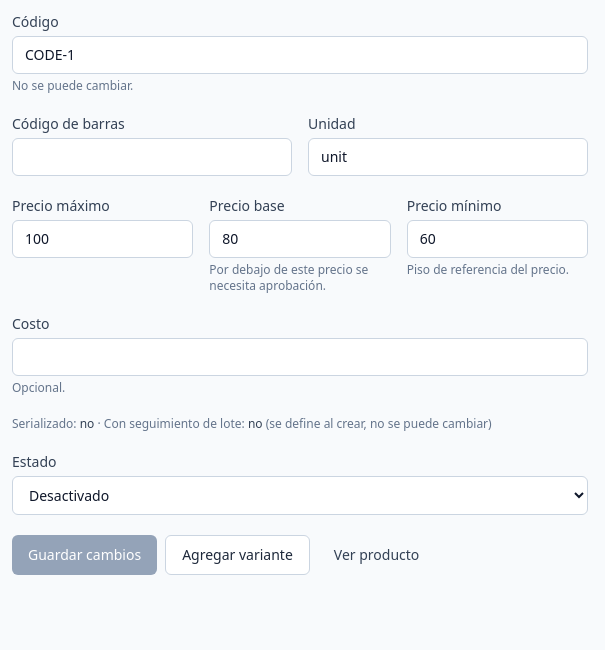
Test: VariantForm — edit › never blocks re-activating (active) a variant, regardless of its stock
The image size is (605, 650).
Select "Activo" in the dropdown labelled "Estado" at (300, 496), box [12,476,588,515]
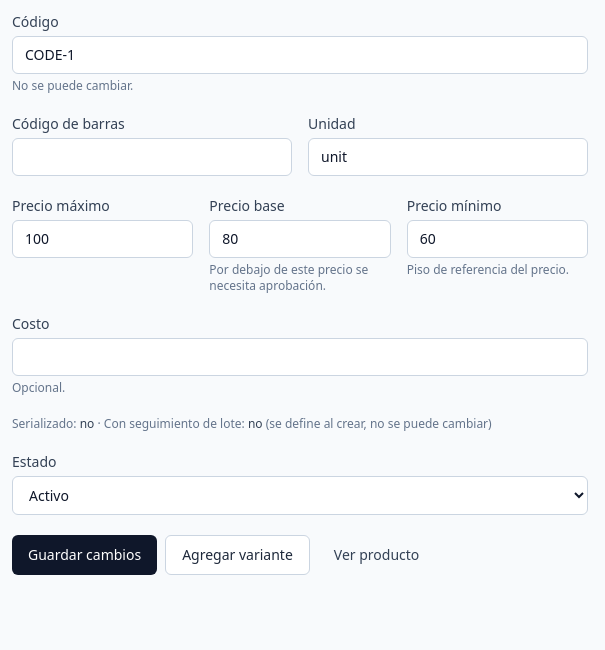
Click the button "Guardar cambios".
click(85, 555)  # box [12,535,157,575]
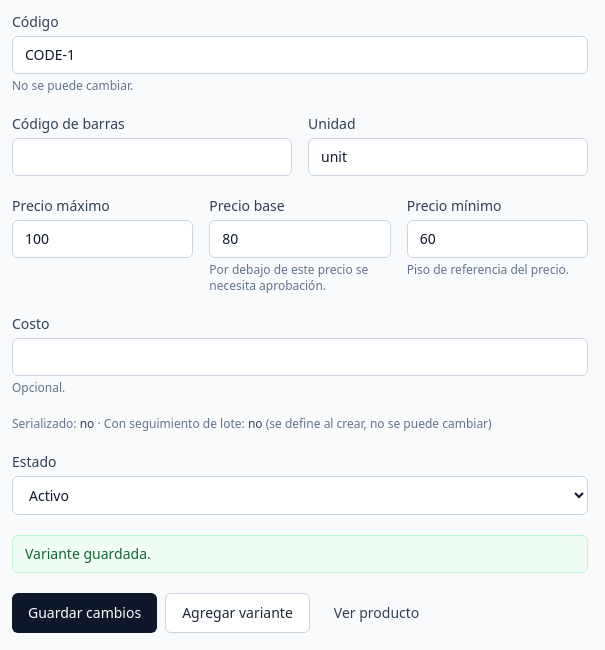
Expected: the text "Variante guardada." is shown, [25,544,151,563]
